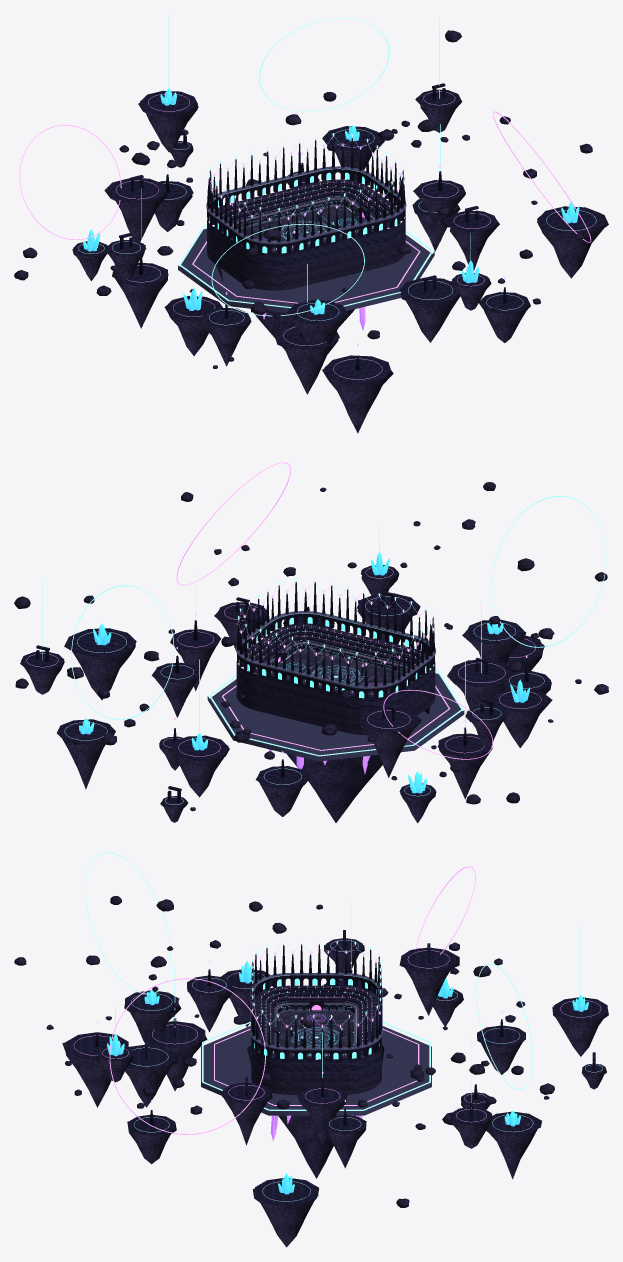
The model's file is arena_thunder.glb.
The picture shows the model from 3 angles, top to bottom: view 1: azimuth 30°, elevation 25°; view 2: azimuth 150°, elevation 25°; view 3: azimuth 270°, elevation 25°; orthographic projection. The views are drawn at different scales.
Visible parts, largest first — view 1: Decor, Stands, Ground, Walls; view 2: Decor, Stands, Ground, Walls; view 3: Decor, Stands, Ground, Walls.
Part boxes in pixels (x1,y1,x2,y2): Decor: (14,14,608,433); Stands: (207,179,405,270); Ground: (238,206,373,250); Walls: (232,197,381,254); Decor: (14,462,608,823); Stands: (236,624,435,714); Ground: (271,650,402,694); Walls: (261,641,410,698); Decor: (14,852,608,1247); Stands: (251,985,381,1075); Ground: (278,1010,354,1056); Walls: (274,1002,358,1059).
Bounding box in the file's own units: 243 × 121 × 248.
13 materials, 7 textured.
